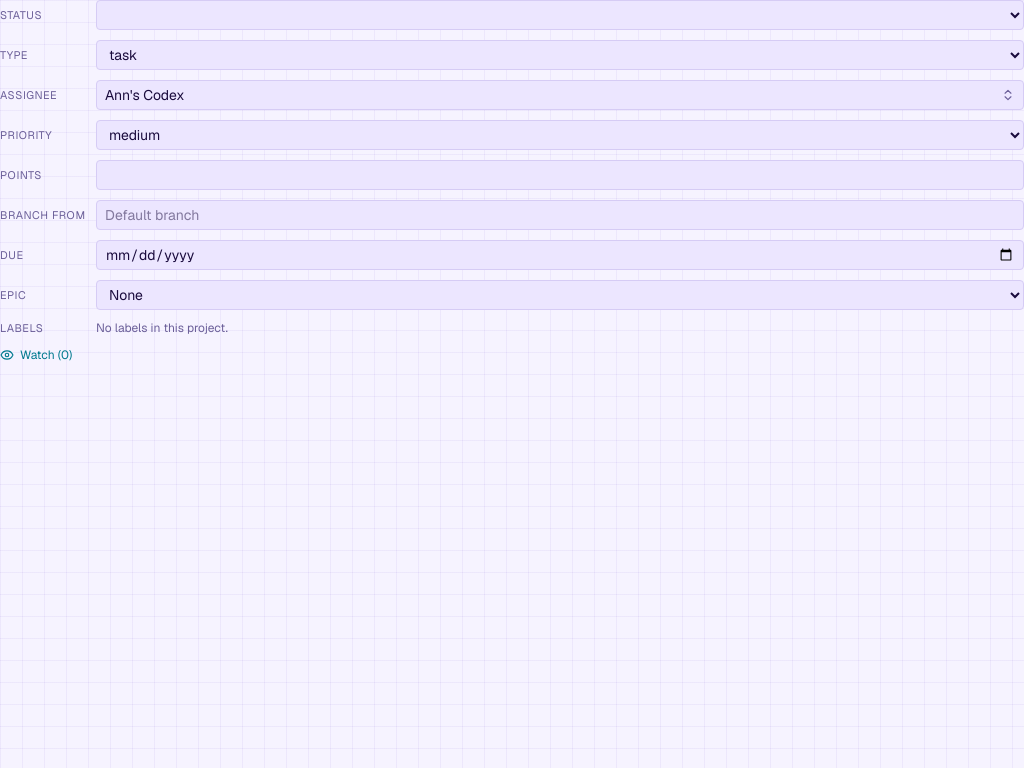
Scenario: TaskFields assignee › escape closes only the picker, not the task drawer around it
Click the dropdown named "Assignee". click: (145, 95)
box: [96,80,1023,110]
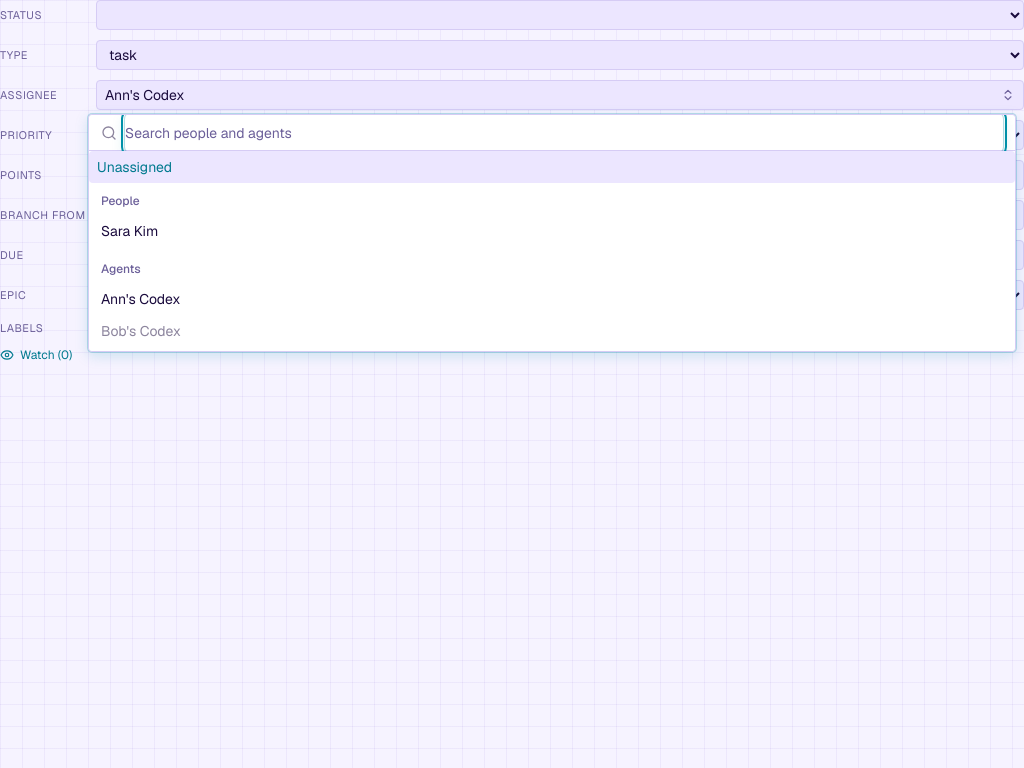
Check: the list is shown, box [89,151,1015,351]
Press Escape
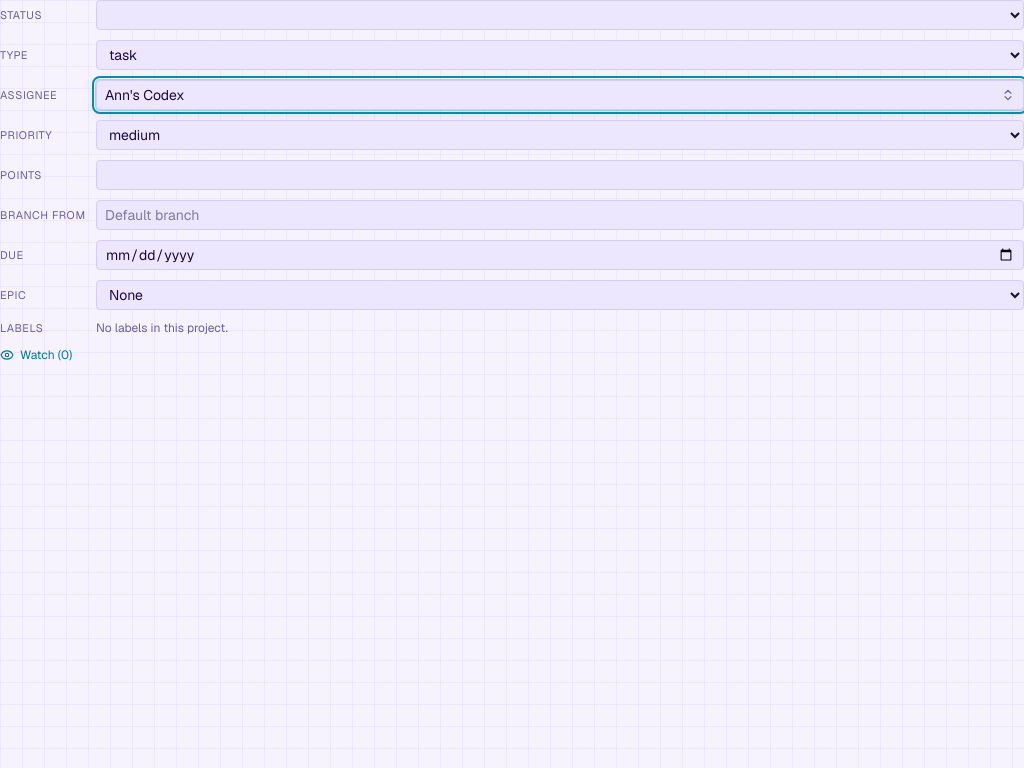
Check: the list is gone
